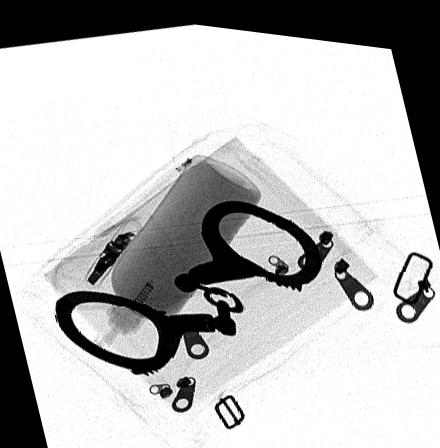HandCuffs: (54, 193, 322, 373)
